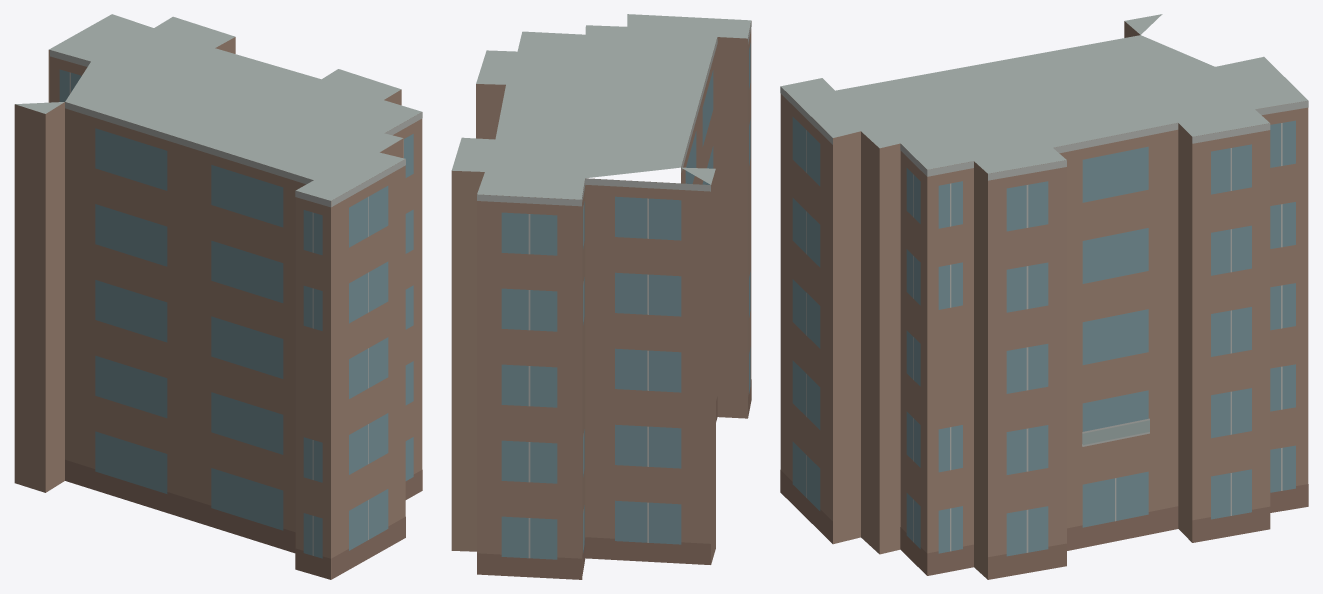
The model's file is survey-upis-32751886.glb.
3 views of the same model, side by side, from view 1: azimuth 30°, elevation 25°; view 2: azimuth 150°, elevation 25°; view 3: azimuth 270°, elevation 25° (orthographic). The views are drawn at different scales.
Visible parts, largest first — view 1: survey-upis-32751886.tmp; view 2: survey-upis-32751886.tmp; view 3: survey-upis-32751886.tmp.
Part boxes in pixels (left/top/right/bottom): survey-upis-32751886.tmp: left=14, top=14, right=422, bottom=579; survey-upis-32751886.tmp: left=451, top=14, right=751, bottom=579; survey-upis-32751886.tmp: left=780, top=14, right=1308, bottom=579.
Bounding box in the file's own units: 11.99 × 14.2 × 16.74.
